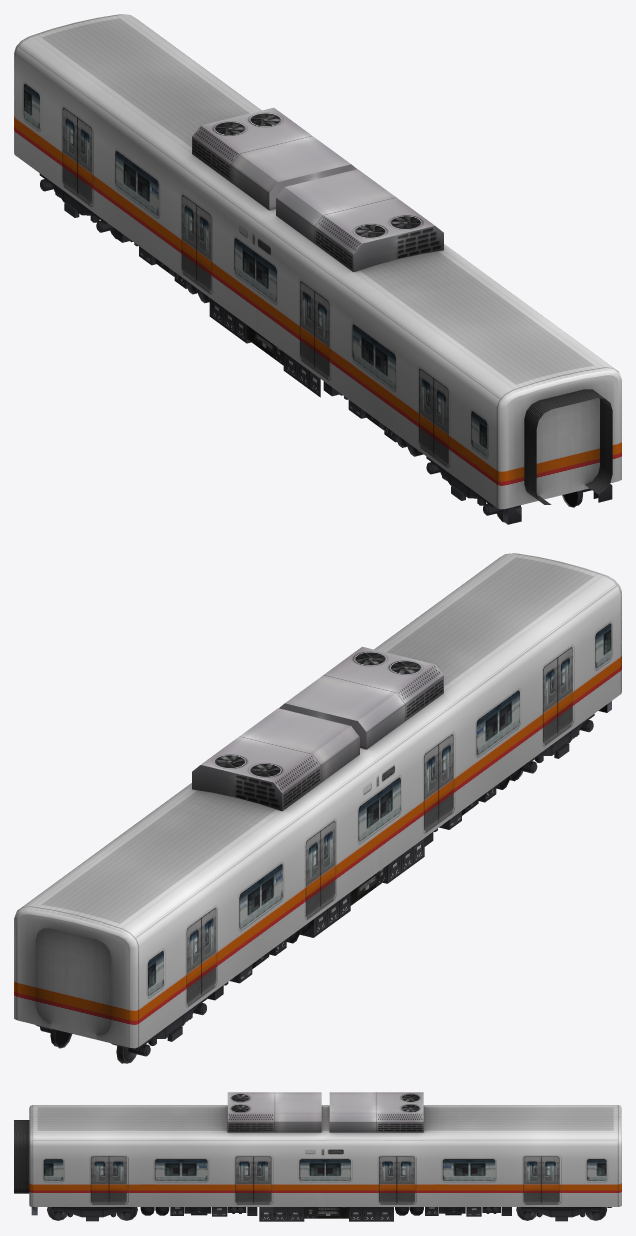
File: body.glb
The picture shows the model from 3 angles, top to bottom: view 1: azimuth 30°, elevation 25°; view 2: azimuth 150°, elevation 25°; view 3: azimuth 270°, elevation 25°; orthographic projection. The views are drawn at different scales.
Parts seen in each view (by area): view 1: Busan_Body; view 2: Busan_Body; view 3: Busan_Body.
Part boxes in pixels (x1,y1,x2,y2): Busan_Body: (14,14,621,524); Busan_Body: (14,553,621,1063); Busan_Body: (14,1092,621,1221).
Size of the model in its own units: 2.86 by 3.9 by 20.
1 material, 1 textured.
